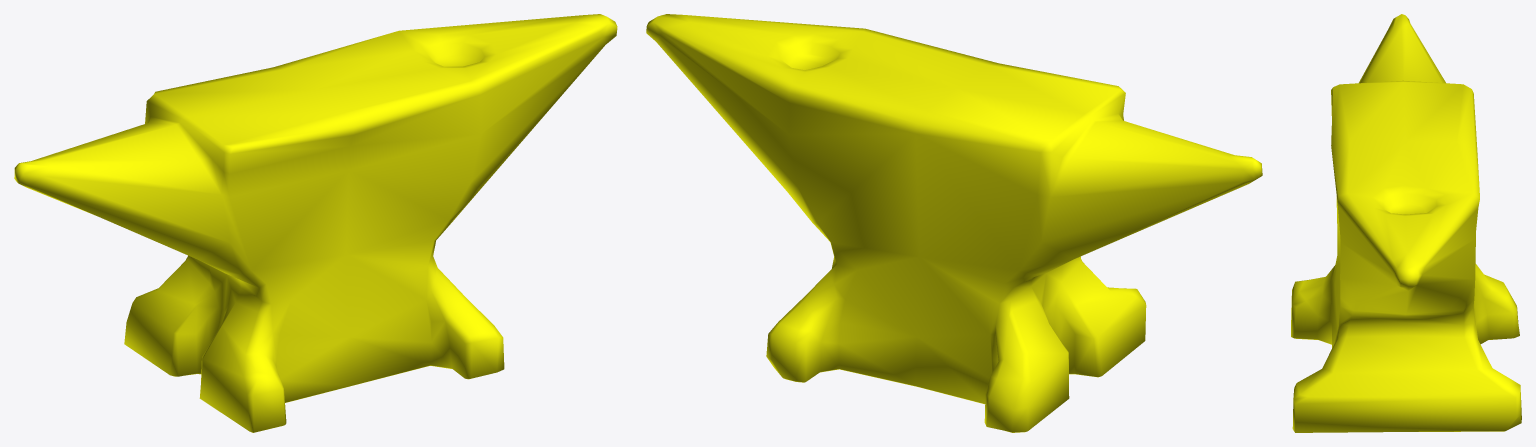
File: anvil-crafting-extended.glb
3 renders of one model, left to right at view 1: azimuth 30°, elevation 25°; view 2: azimuth 150°, elevation 25°; view 3: azimuth 270°, elevation 25°, orthographic. The views are drawn at different scales.
Parts seen in each view (by area): view 1: Anvil; view 2: Anvil; view 3: Anvil.
Boxes of the visible parts, x1,y1,x2,y2 form: Anvil: [14, 14, 617, 432]; Anvil: [646, 14, 1262, 432]; Anvil: [1291, 14, 1521, 432].
Bounding box in the file's own units: 0.8387 × 0.3618 × 0.3127.
Materials: 1 (1 with a texture image).
